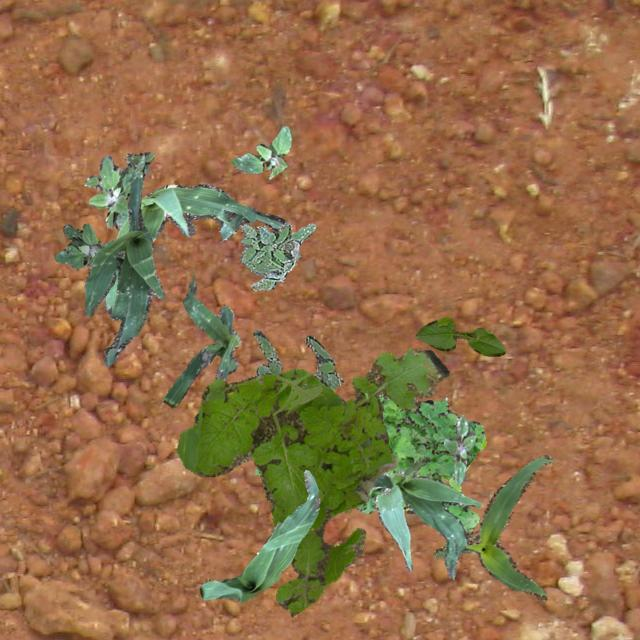crop: (102, 182, 300, 308), (432, 454, 552, 600), (198, 470, 318, 600), (84, 177, 162, 366), (370, 454, 480, 578), (162, 278, 240, 422), (414, 316, 504, 356)
weed: (176, 347, 448, 616), (254, 392, 486, 530), (242, 328, 342, 461), (84, 152, 154, 230), (240, 220, 314, 290), (230, 126, 290, 178), (54, 222, 110, 268), (442, 414, 476, 484)
